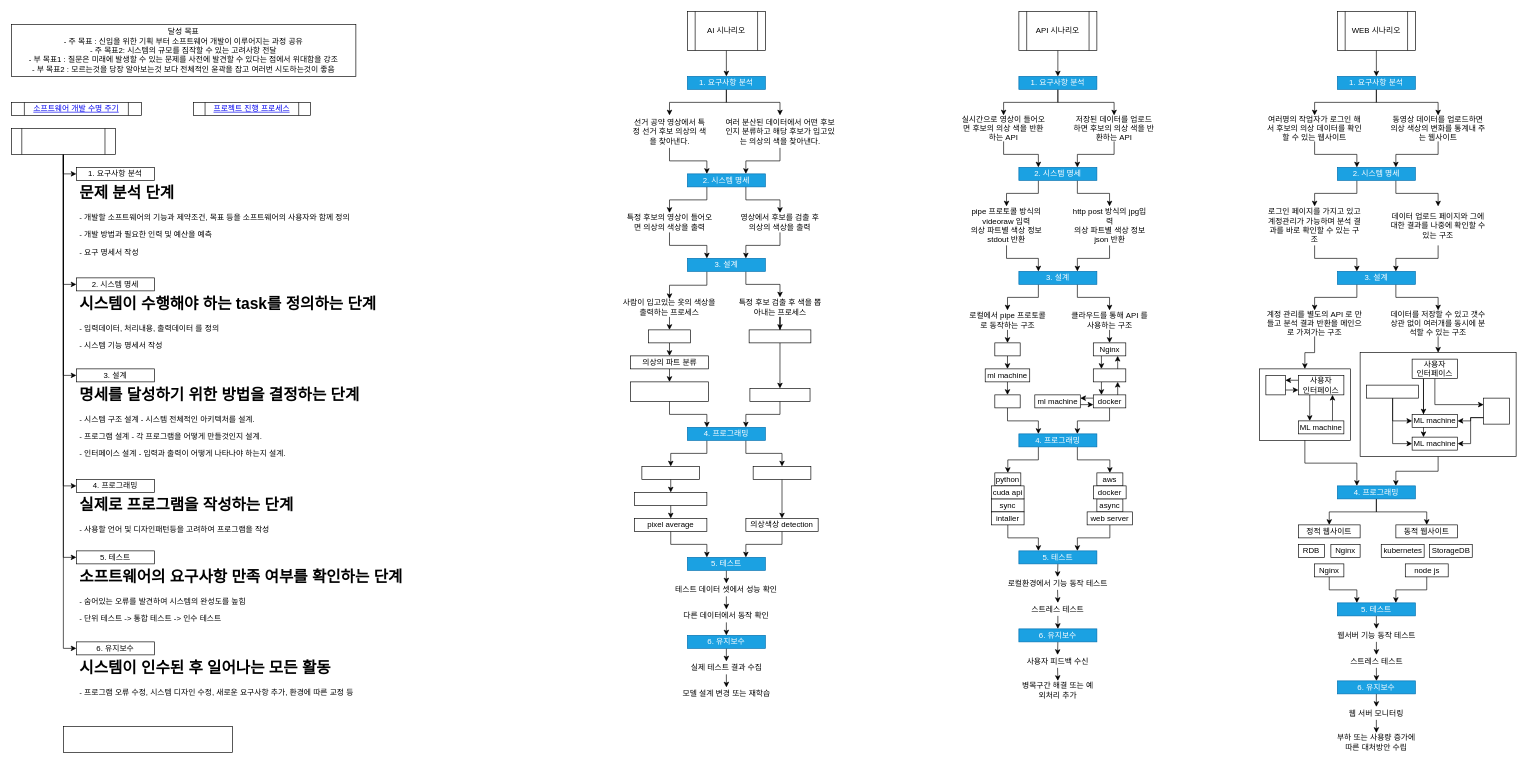
Some shapes in this 1528 by 764 pixel diagram are drawn without their labels. Here are the shapes that lost their labels. From the top down, the box of each, then its label:
(11, 128, 115, 154): 소프트웨어 개발 단계(Software Life Cycle)
(648, 329, 691, 343): 사람 검출
(748, 329, 811, 343): 특정 후보 분류
(994, 342, 1020, 356): stdin
(630, 381, 708, 401): segmentation영역에서 rgb 데이터 분류
(749, 388, 810, 401): 의상 색상 예측
(1093, 368, 1126, 382): ec2
(1265, 375, 1285, 395): 계정 API
(1366, 384, 1419, 398): orchestrarion
(994, 394, 1020, 408): stdout
(1483, 397, 1510, 424): video 저장용 DB
(641, 466, 700, 479): 사람 detection
(753, 466, 811, 479): 후보 detection
(634, 492, 707, 505): 의상 segmentation
(63, 726, 232, 752): 미숙한 질문은 이게 무엇인지 묻는 질문이고 성숙한 질문은 경험에 기반한 질문이다.
